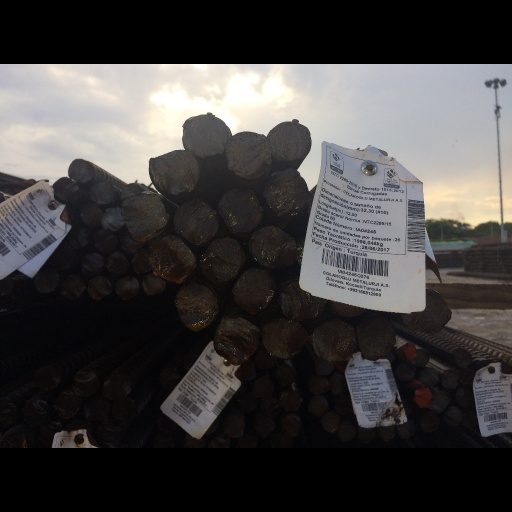dipstick: (401, 288, 451, 333), (148, 150, 199, 193), (122, 192, 167, 238), (264, 171, 308, 217), (214, 318, 258, 363), (183, 113, 228, 156), (176, 283, 218, 329), (226, 130, 268, 176), (248, 226, 295, 267), (232, 269, 275, 313), (174, 199, 217, 243), (218, 189, 262, 232), (199, 237, 242, 280), (355, 314, 395, 359), (313, 320, 356, 360), (262, 319, 305, 358), (279, 281, 324, 318), (269, 120, 311, 159), (154, 246, 193, 282), (22, 398, 47, 425), (33, 365, 61, 388), (110, 397, 137, 420), (53, 395, 80, 418), (38, 264, 59, 293), (60, 275, 85, 299), (101, 207, 127, 230), (79, 203, 102, 229), (72, 372, 98, 395), (103, 377, 130, 399), (115, 276, 139, 300), (55, 177, 78, 202), (88, 275, 111, 300), (89, 182, 116, 202), (142, 273, 165, 296), (252, 414, 275, 437), (132, 249, 154, 273), (92, 230, 117, 251), (106, 252, 128, 275), (84, 399, 108, 420), (69, 159, 92, 180), (252, 376, 273, 399), (224, 415, 245, 437), (279, 390, 302, 410), (281, 413, 300, 437), (69, 227, 90, 248), (82, 253, 103, 274), (273, 365, 294, 386), (307, 395, 327, 415), (418, 366, 438, 386), (338, 420, 357, 441), (258, 346, 275, 369), (411, 348, 430, 368), (453, 348, 472, 368), (414, 387, 433, 407), (419, 412, 439, 431), (394, 362, 415, 380), (322, 410, 339, 432), (308, 375, 328, 393), (397, 419, 416, 437), (441, 370, 460, 388), (397, 343, 416, 360), (445, 407, 463, 424), (377, 425, 395, 440)
